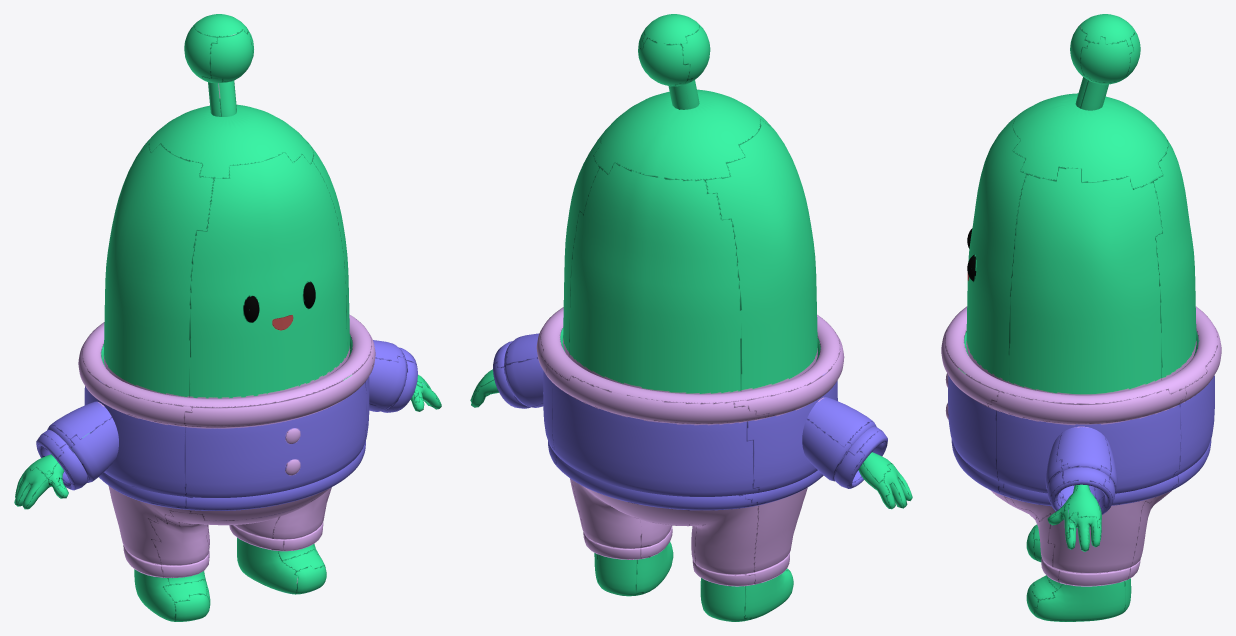
Rendered from alien.glb.
The picture shows the model from 3 angles, left to right: view 1: azimuth 30°, elevation 25°; view 2: azimuth 150°, elevation 25°; view 3: azimuth 270°, elevation 25°; orthographic projection. The views are drawn at different scales.
Visible parts, largest first — view 1: Cylinder; view 2: Cylinder; view 3: Cylinder.
Boxes of the visible parts, bbox=[...] form: Cylinder: bbox=[14, 14, 441, 621]; Cylinder: bbox=[470, 14, 912, 621]; Cylinder: bbox=[941, 14, 1221, 621].
Bounding box in the file's own units: 1.19 × 1.53 × 0.6816.
1 material, 1 textured.
